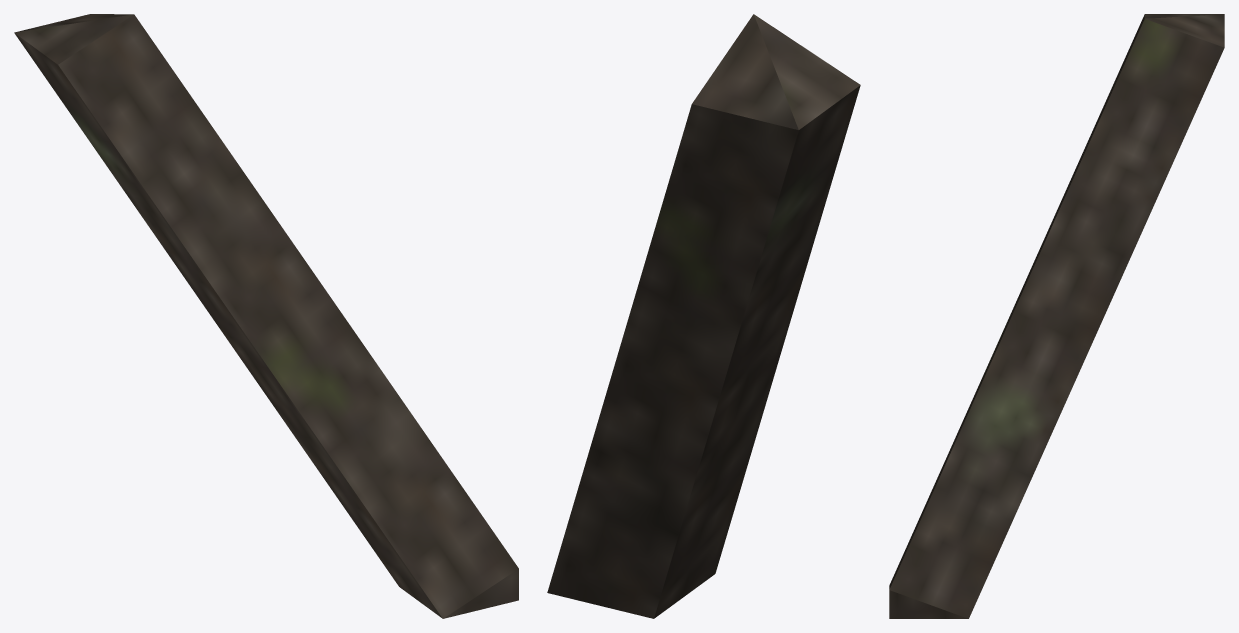
The model's file is spruce_thin_branch_22.5_diagonal.obj.
3 renders of one model, left to right at view 1: azimuth 30°, elevation 25°; view 2: azimuth 150°, elevation 25°; view 3: azimuth 270°, elevation 25°, orthographic. The views are drawn at different scales.
Visible parts, largest first — view 1: cube_selection; view 2: cube_selection; view 3: cube_selection.
Part boxes in pixels (left/top/right/bottom): cube_selection: left=14, top=14, right=518, bottom=618; cube_selection: left=547, top=14, right=860, bottom=618; cube_selection: left=889, top=14, right=1224, bottom=618.
Size of the model in its own units: 1.31 by 2.12 by 1.31.
